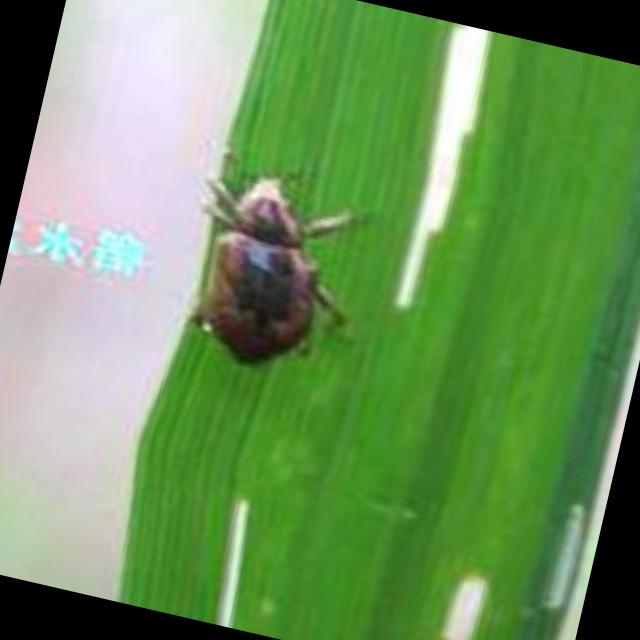rice-bug: (159, 156, 372, 388)
